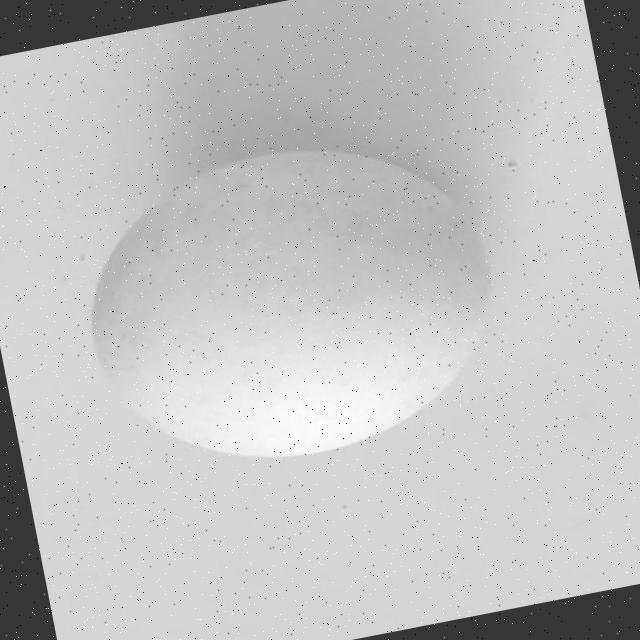ping-pong-ball: (76, 120, 510, 482)
